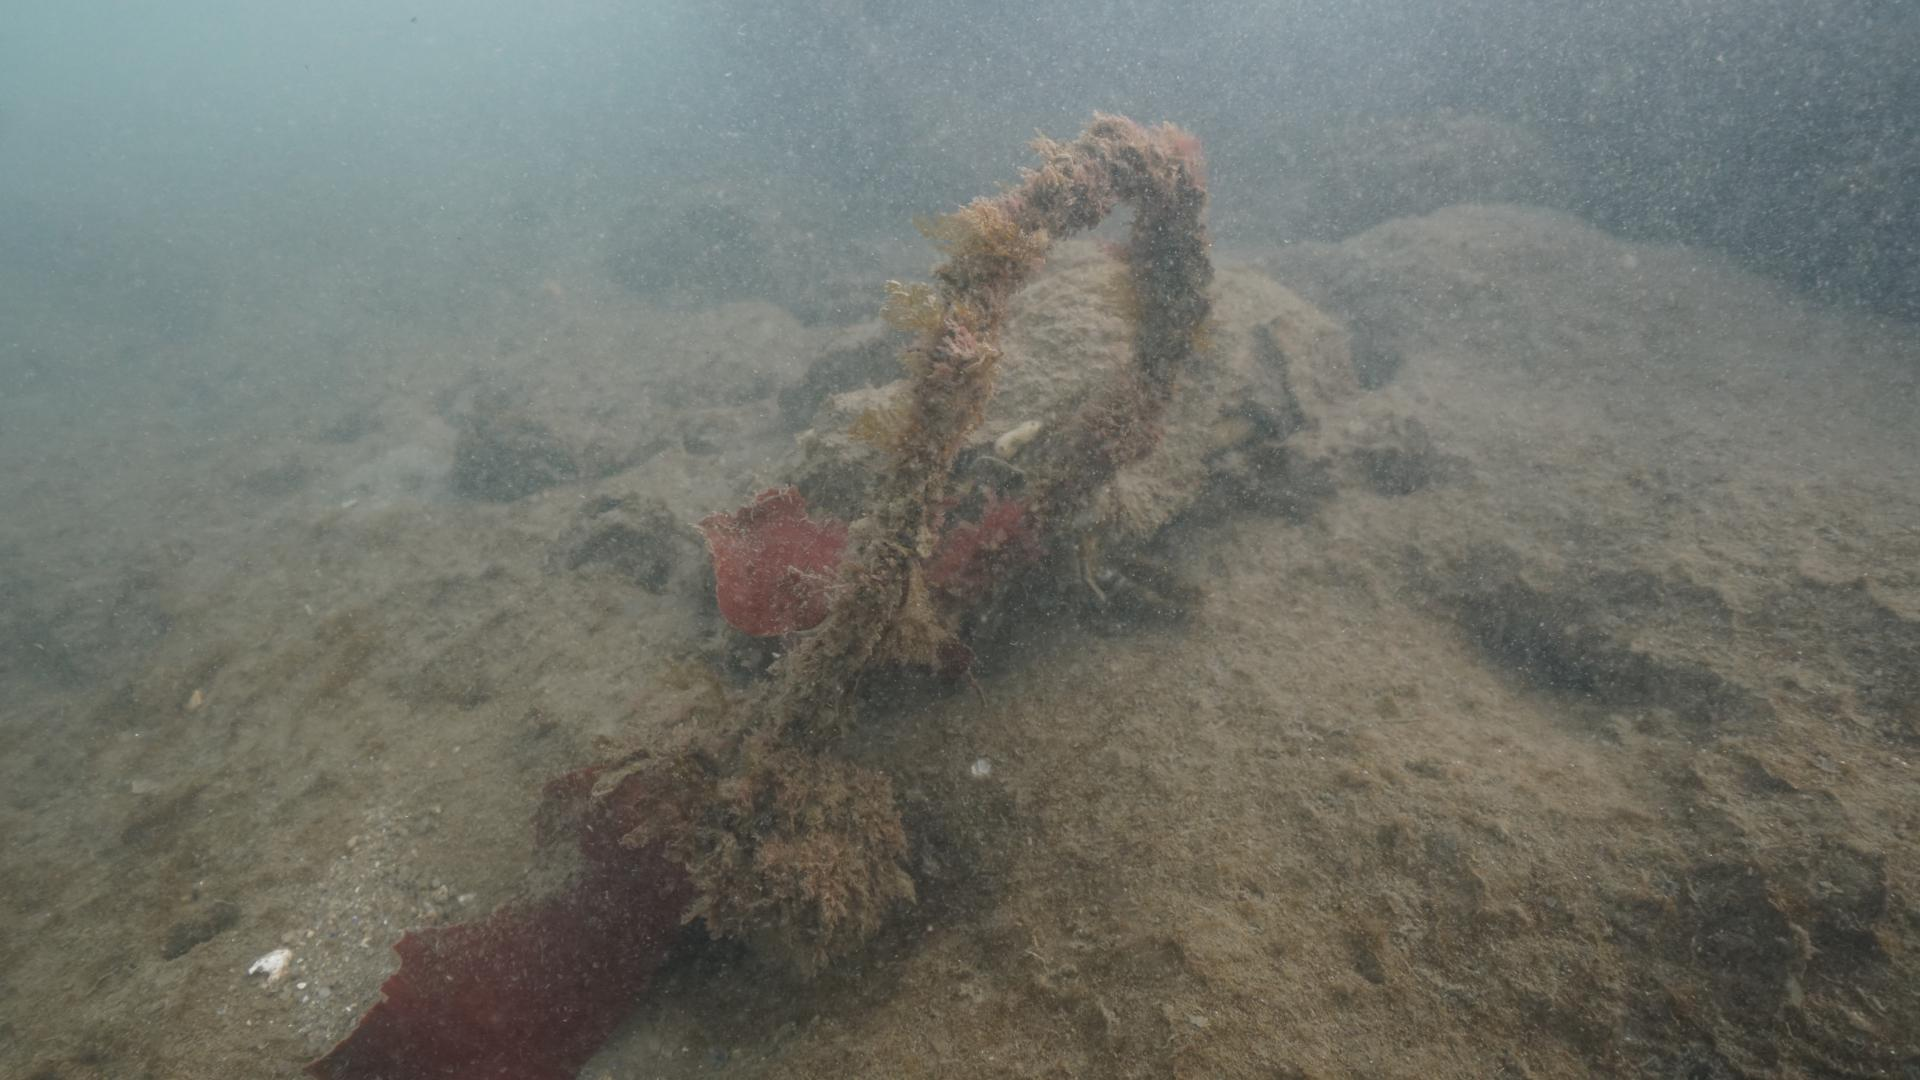rope: (762, 116, 1208, 735)
